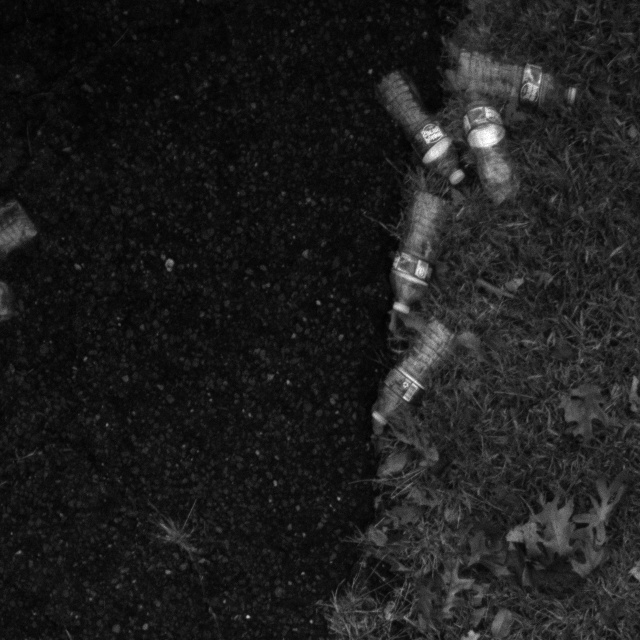bottle: (363, 318, 471, 432), (437, 40, 580, 113), (382, 185, 457, 310), (458, 87, 523, 206), (386, 72, 451, 184)
